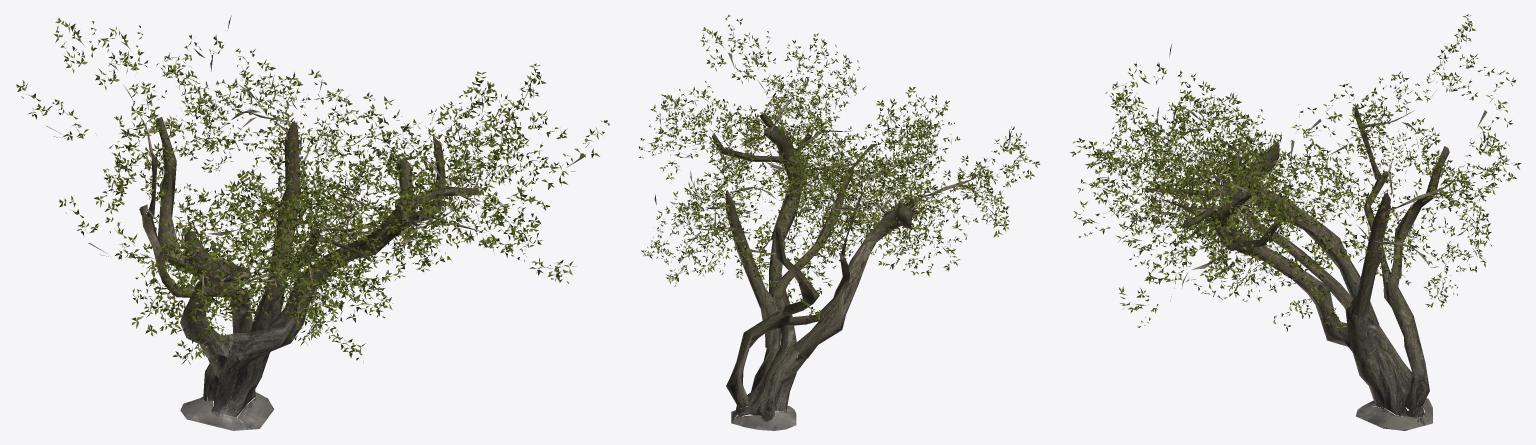
File: island_tree_02.glb
The picture shows the model from 3 angles, left to right: view 1: azimuth 30°, elevation 25°; view 2: azimuth 150°, elevation 25°; view 3: azimuth 270°, elevation 25°; orthographic projection. The views are drawn at different scales.
Visible parts, largest first — view 1: island_tree_02_LOD0; view 2: island_tree_02_LOD0; view 3: island_tree_02_LOD0.
Part boxes in pixels (x1,y1,x2,y2): island_tree_02_LOD0: (16, 15, 609, 430); island_tree_02_LOD0: (638, 14, 1040, 430); island_tree_02_LOD0: (1070, 14, 1521, 430).
Size of the model in its own units: 3.83 by 3.4 by 4.06.
Materials: 3 (3 with a texture image).
